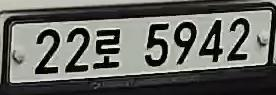2: (32, 26, 62, 77), (64, 25, 91, 74), (225, 18, 253, 61)
4: (197, 17, 225, 64)
5: (144, 19, 172, 69)
9: (171, 19, 198, 66)
로: (91, 27, 125, 74)
